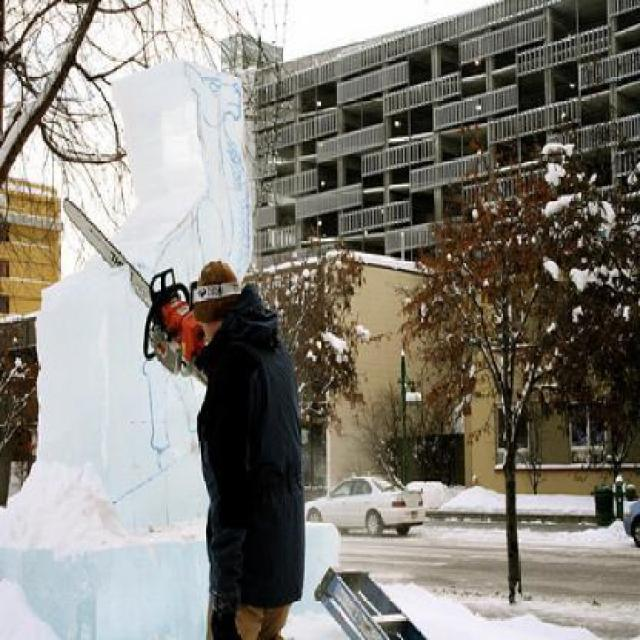Chainsaw: (62, 196, 210, 384)
